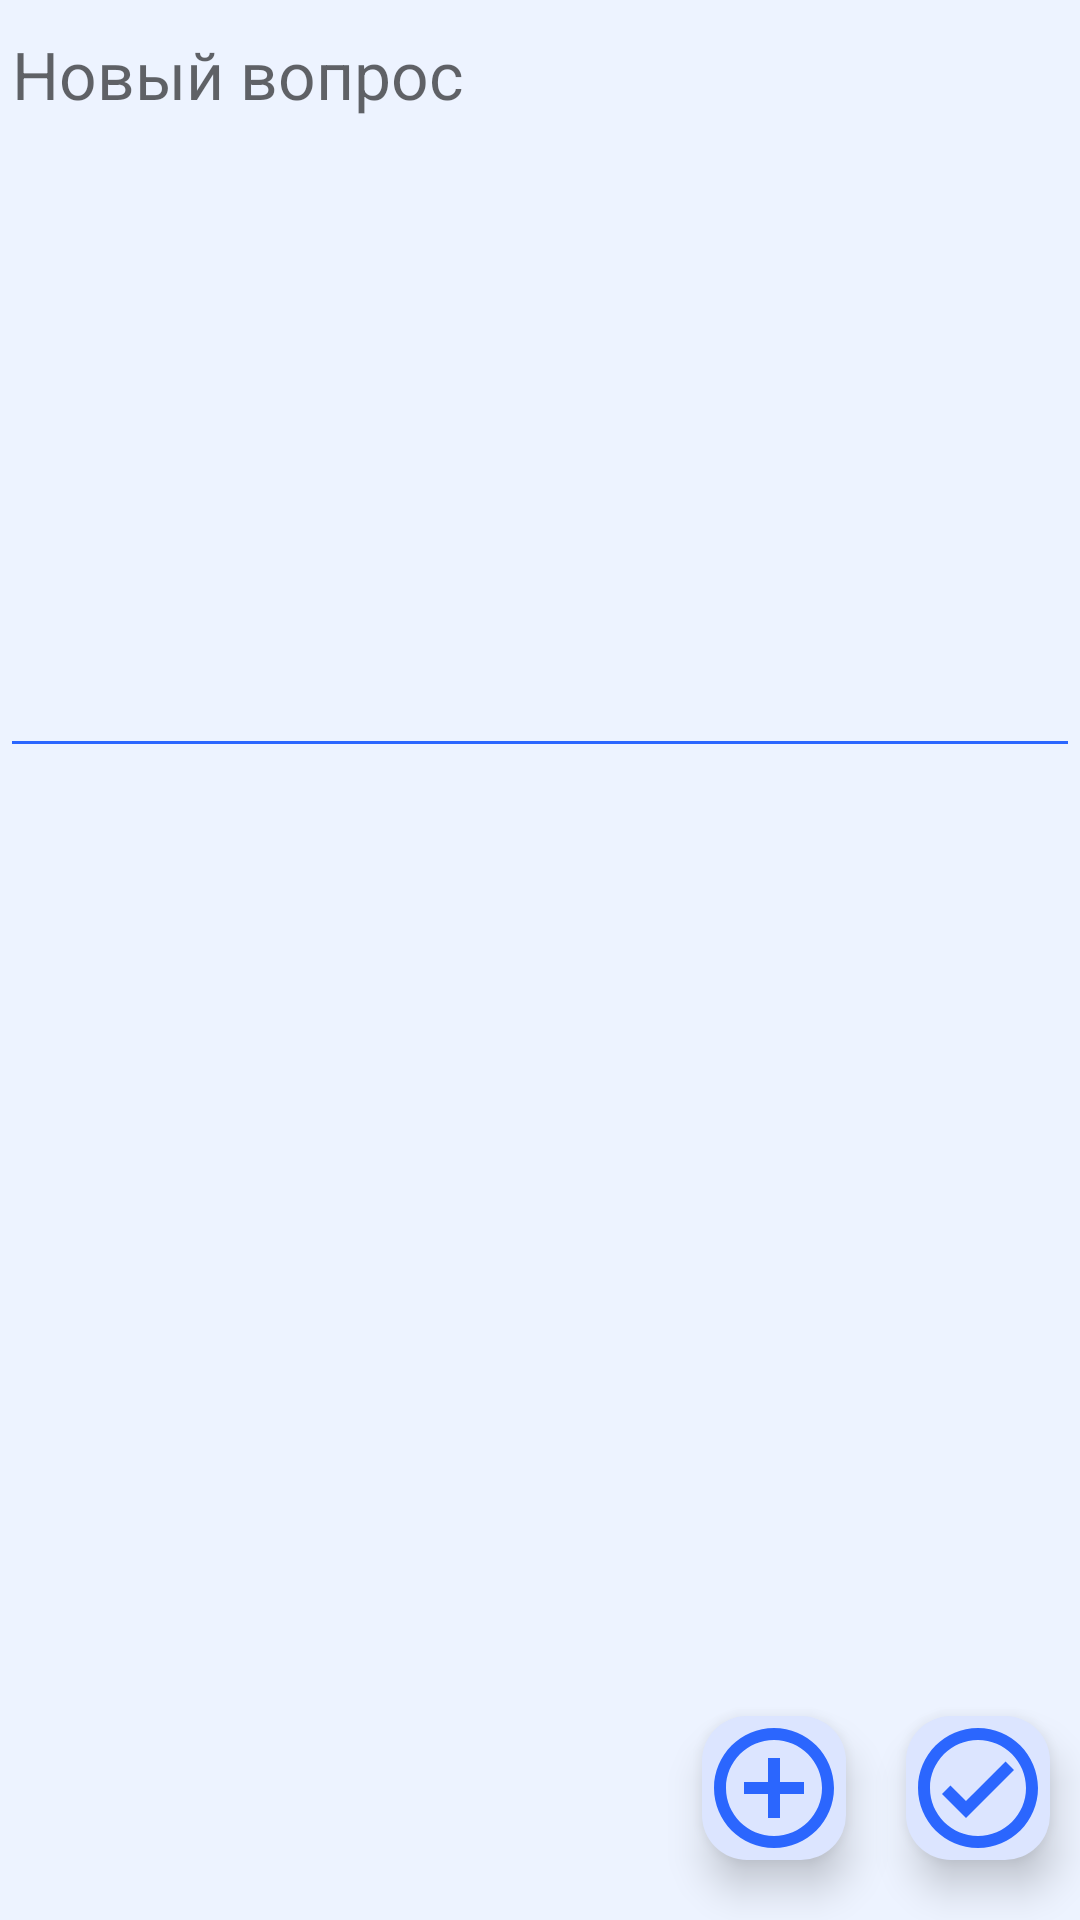

Icon click points for this 1080w x 1920h phone screenshot, format (x,y):
add circle: (774,1788)
check circle: (978,1788)
